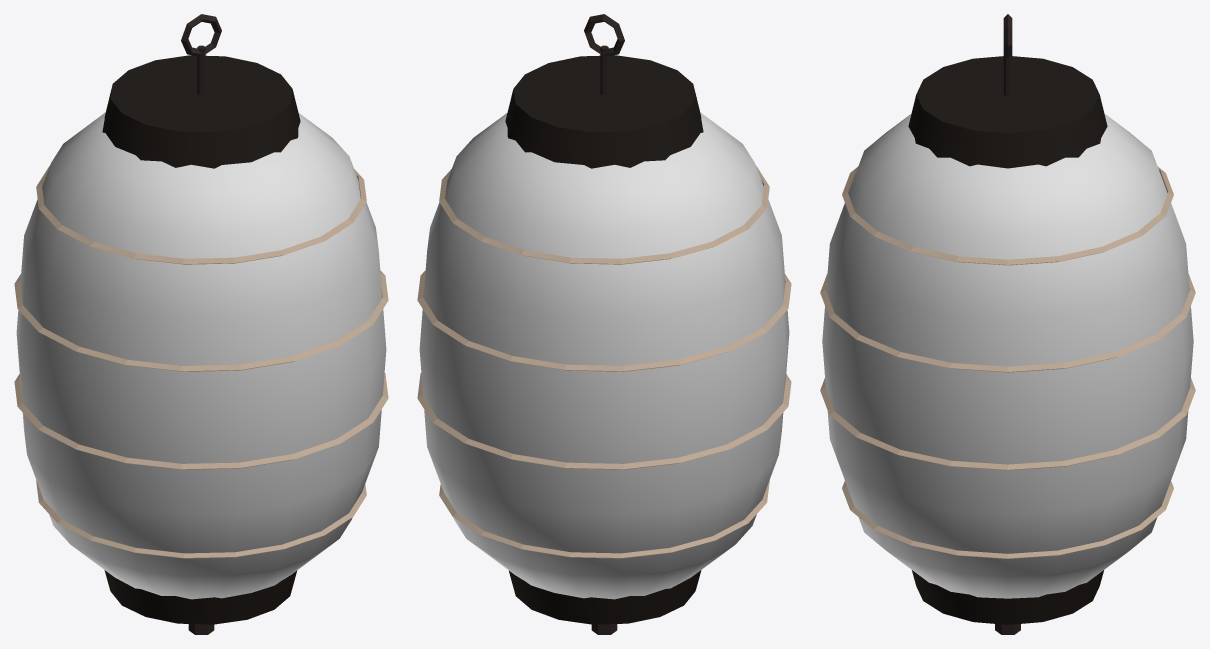
File: lantern.glb
3 renders of one model, left to right at view 1: azimuth 30°, elevation 25°; view 2: azimuth 150°, elevation 25°; view 3: azimuth 270°, elevation 25°, orthographic.
Visible parts, largest first — view 1: glowPaper3, cap2, cap8, rib6, rib5, rib7, rib4, cord0; view 2: glowPaper3, cap2, cap8, rib6, rib5, rib7, rib4, cord0; view 3: glowPaper3, cap2, cap8, rib6, rib5, rib7, rib4.
Part boxes in pixels (x1,y1,x2,y2): glowPaper3: (16,112,386,599); cap2: (102,55,300,168); cap8: (104,570,297,624); rib6: (14,270,388,371); rib5: (14,373,388,469); rib7: (36,166,366,264); rib4: (36,480,366,558); cord0: (181,14,221,56); glowPaper3: (419,112,789,599); cap2: (505,55,703,168); cap8: (508,570,701,624); rib6: (417,270,791,371); rib5: (417,373,791,469); rib7: (439,166,769,264); rib4: (439,480,769,558); cord0: (584,14,624,56); glowPaper3: (822,114,1193,598); cap2: (908,56,1107,168); cap8: (912,570,1103,624); rib6: (820,273,1195,372); rib5: (820,378,1195,470); rib7: (842,166,1173,265); rib4: (842,481,1173,558).
Size of the model in its own units: 0.348 by 0.629 by 0.348.
